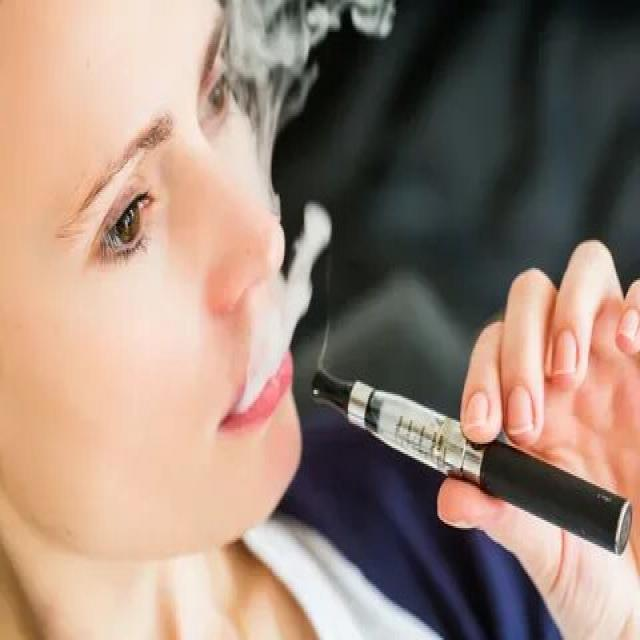smoke: (311, 362, 638, 564)
